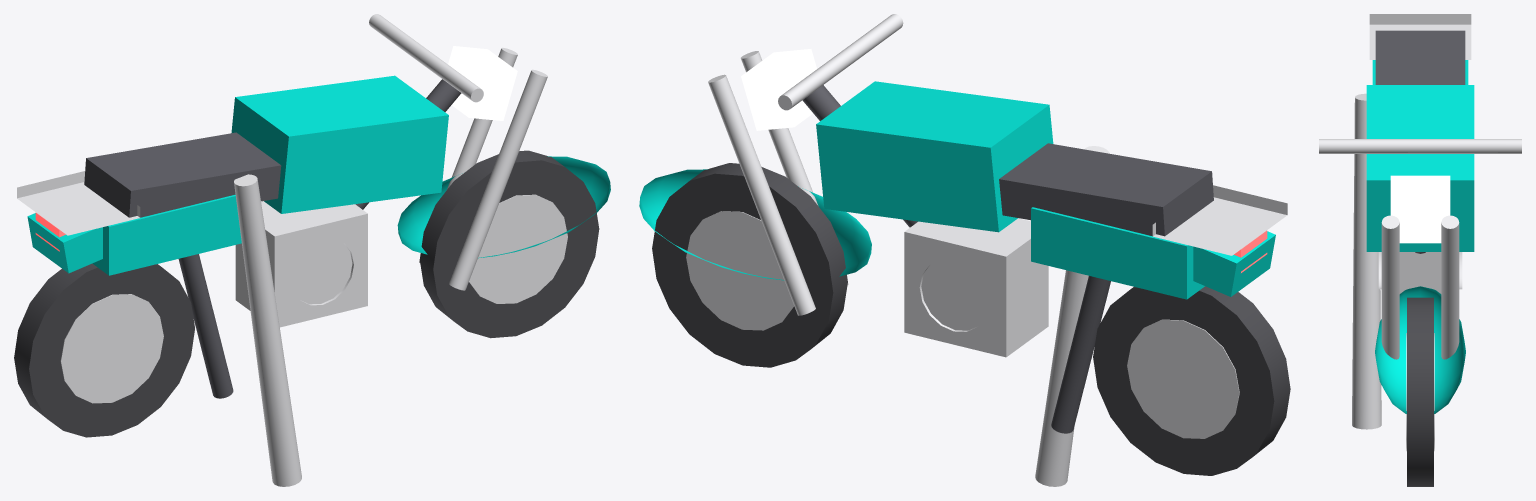
The model's file is commuter.glb.
The picture shows the model from 3 angles, left to right: view 1: azimuth 30°, elevation 25°; view 2: azimuth 150°, elevation 25°; view 3: azimuth 270°, elevation 25°; orthographic projection. The views are drawn at different scales.
Visible parts, largest first — view 1: Body, Chrome, Wheel_Rear, Wheel_Front, Engine, Seat, Rim_Rear, Rim_Front, Chassis, Headlight; view 2: Body, Wheel_Rear, Chrome, Wheel_Front, Engine, Seat, Rim_Rear, Rim_Front, Chassis, Headlight; view 3: Chrome, Body, Wheel_Front, Seat, Headlight, Engine, Rim_Front.
Part boxes in pixels (x1,y1,x2,y2): Body: (27, 75, 610, 275); Chrome: (17, 14, 547, 486); Wheel_Rear: (14, 263, 194, 437); Wheel_Front: (419, 150, 599, 338); Engine: (235, 201, 367, 327); Seat: (84, 132, 281, 217); Rim_Rear: (60, 294, 163, 403); Rim_Front: (469, 194, 567, 303); Chassis: (178, 79, 461, 398); Headlight: (448, 46, 517, 120); Body: (639, 81, 1275, 299); Wheel_Rear: (1093, 286, 1290, 475); Chrome: (708, 14, 1287, 486); Wheel_Front: (652, 163, 847, 367); Engine: (904, 218, 1048, 357); Seat: (999, 143, 1213, 236); Rim_Rear: (1127, 319, 1239, 438); Rim_Front: (686, 211, 793, 330); Chassis: (802, 85, 1110, 433); Headlight: (741, 49, 816, 130); Chrome: (1319, 14, 1521, 429); Body: (1366, 60, 1474, 413); Wheel_Front: (1407, 297, 1433, 486); Seat: (1375, 30, 1465, 84); Headlight: (1390, 175, 1450, 243); Engine: (1378, 252, 1462, 293); Rim_Front: (1406, 333, 1434, 451).
Size of the model in its own units: 2.27 by 1.36 by 0.68.
